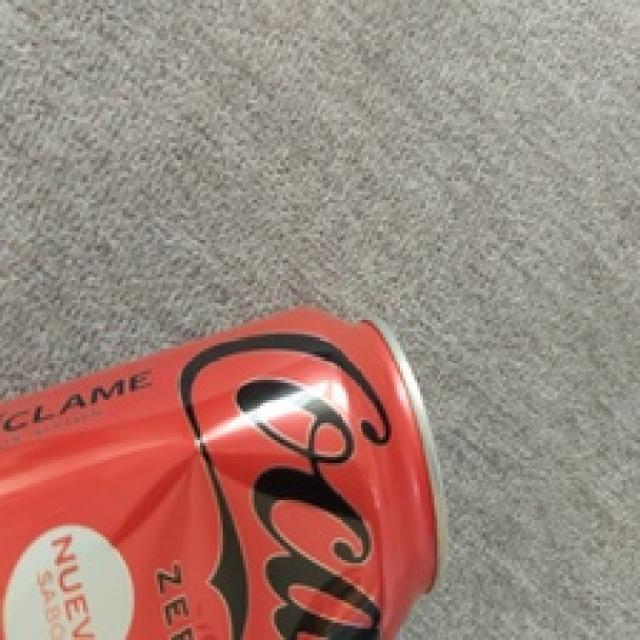recyclable: (0, 305, 448, 640)
